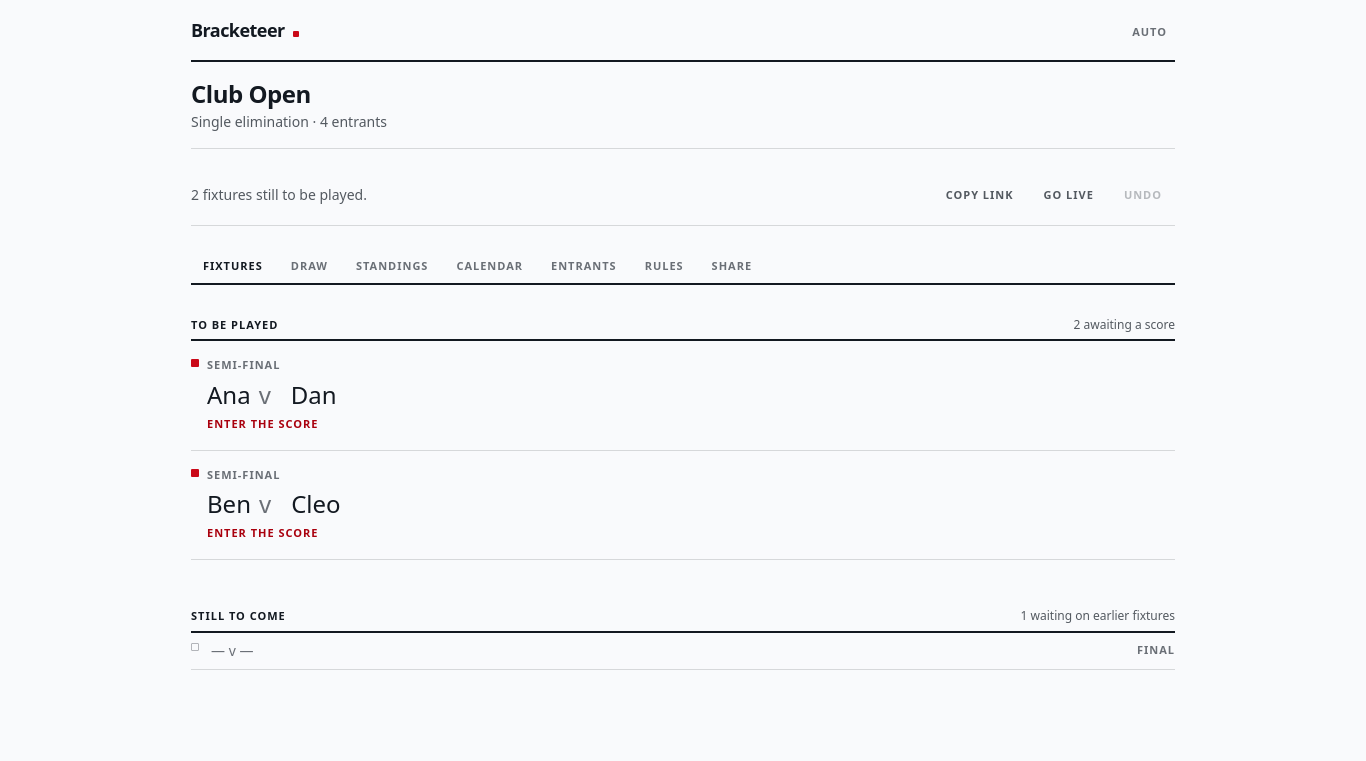
Test: recording a result, in every shape the rules can take › takes a bare verdict, including a draw
Click the button "Enter the score". click: (229, 394)
box: 191,380 -> 1175,434
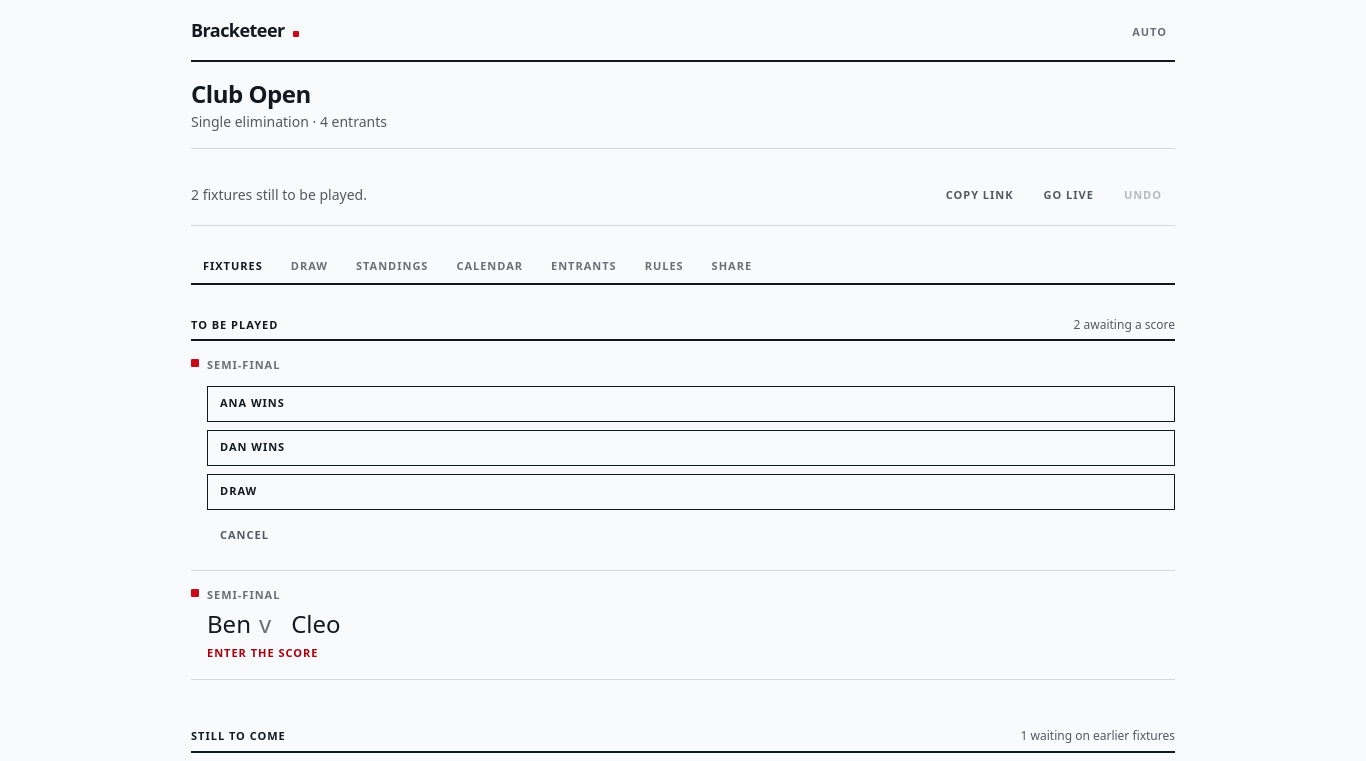
Expected: the button "Draw" is shown, 207,474 -> 1175,510
Click the button "Ana wins". click: (266, 403)
box: 207,386 -> 1175,422
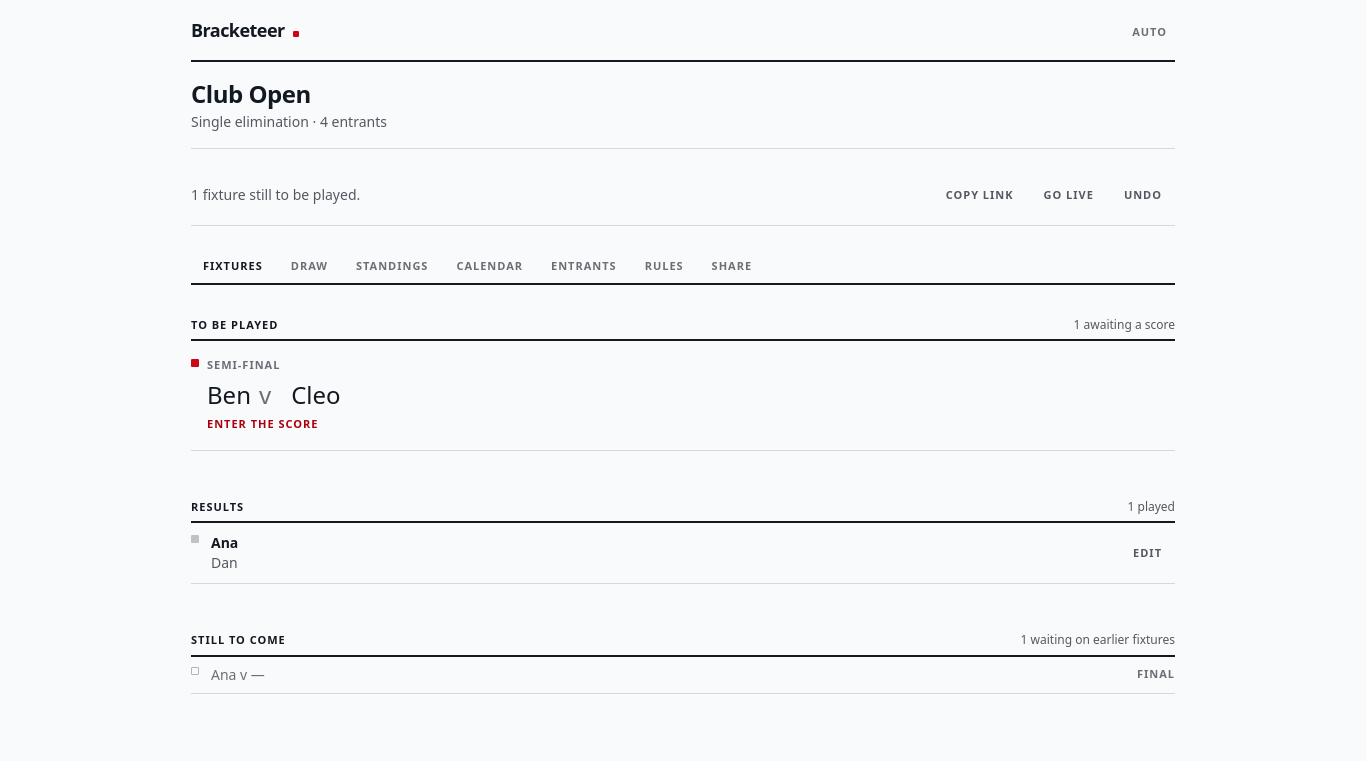
Expected: the text "1 played" is shown, 1128,498 -> 1175,514
